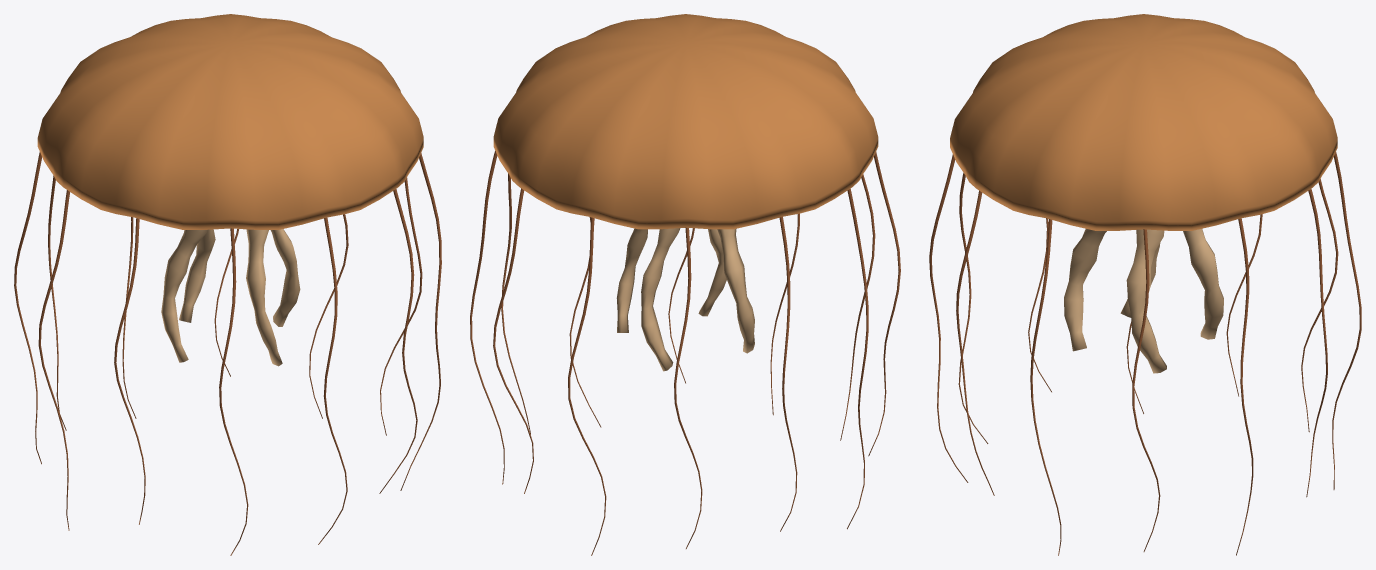
3 views of the same model, side by side, from view 1: azimuth 30°, elevation 25°; view 2: azimuth 150°, elevation 25°; view 3: azimuth 270°, elevation 25° (orthographic).
Visible parts, largest first — view 1: Bell_closed_inner_outer, Oral_arm_3, Oral_arm_4, Oral_arm_1, Oral_arm_2, Marginal_tentacle_7, Marginal_tentacle_10, Marginal_tentacle_9, Marginal_tentacle_12, Marginal_tentacle_8, Marginal_tentacle_11, Marginal_tentacle_6 (+2 smaller); view 2: Bell_closed_inner_outer, Oral_arm_2, Oral_arm_3, Oral_arm_1, Marginal_tentacle_4, Marginal_tentacle_7, Marginal_tentacle_2, Marginal_tentacle_5, Marginal_tentacle_6, Marginal_tentacle_3, Oral_arm_4, Marginal_tentacle_8 (+2 smaller); view 3: Bell_closed_inner_outer, Oral_arm_1, Oral_arm_4, Oral_arm_2, Marginal_tentacle_12, Marginal_tentacle_2, Marginal_tentacle_4, Marginal_tentacle_1, Marginal_tentacle_10, Marginal_tentacle_11, Marginal_tentacle_3, Marginal_tentacle_9 (+1 smaller).
Boxes of the visible parts, x1=… form: Bell_closed_inner_outer: x1=37, y1=14, x2=423, y2=229; Oral_arm_3: x1=161, y1=230, x2=207, y2=362; Oral_arm_4: x1=246, y1=229, x2=282, y2=366; Oral_arm_1: x1=270, y1=229, x2=300, y2=326; Oral_arm_2: x1=179, y1=229, x2=215, y2=322; Marginal_tentacle_7: x1=38, y1=190, x2=69, y2=530; Marginal_tentacle_10: x1=318, y1=217, x2=347, y2=544; Marginal_tentacle_9: x1=219, y1=228, x2=248, y2=555; Marginal_tentacle_12: x1=400, y1=153, x2=441, y2=490; Marginal_tentacle_8: x1=114, y1=218, x2=145, y2=524; Marginal_tentacle_11: x1=379, y1=189, x2=417, y2=493; Marginal_tentacle_6: x1=14, y1=152, x2=41, y2=464; Bell_closed_inner_outer: x1=493, y1=14, x2=878, y2=229; Oral_arm_2: x1=641, y1=228, x2=680, y2=371; Oral_arm_3: x1=717, y1=228, x2=754, y2=353; Oral_arm_1: x1=616, y1=228, x2=647, y2=332; Marginal_tentacle_4: x1=568, y1=217, x2=606, y2=555; Marginal_tentacle_7: x1=847, y1=188, x2=868, y2=529; Marginal_tentacle_2: x1=470, y1=151, x2=504, y2=484; Marginal_tentacle_5: x1=674, y1=227, x2=702, y2=548; Marginal_tentacle_6: x1=779, y1=216, x2=797, y2=531; Marginal_tentacle_3: x1=493, y1=188, x2=533, y2=493; Oral_arm_4: x1=698, y1=229, x2=726, y2=316; Marginal_tentacle_8: x1=868, y1=152, x2=900, y2=456; Bell_closed_inner_outer: x1=950, y1=14, x2=1337, y2=230; Oral_arm_1: x1=1126, y1=229, x2=1166, y2=373; Oral_arm_4: x1=1064, y1=229, x2=1106, y2=351; Oral_arm_2: x1=1183, y1=229, x2=1223, y2=339; Marginal_tentacle_12: x1=1030, y1=219, x2=1061, y2=555; Marginal_tentacle_2: x1=1236, y1=218, x2=1253, y2=555; Marginal_tentacle_4: x1=1332, y1=152, x2=1361, y2=489; Marginal_tentacle_1: x1=1132, y1=229, x2=1160, y2=551; Marginal_tentacle_10: x1=929, y1=154, x2=968, y2=482; Marginal_tentacle_11: x1=956, y1=190, x2=994, y2=495; Marginal_tentacle_3: x1=1306, y1=189, x2=1327, y2=497; Marginal_tentacle_9: x1=958, y1=173, x2=988, y2=443.
Size of the model in its own units: 0.7585 by 0.8661 by 0.7545.
